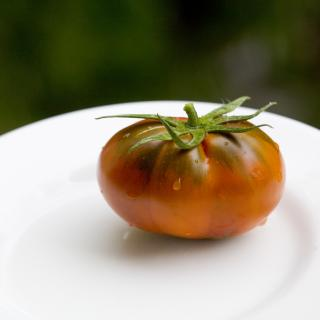tomato: (92, 100, 288, 242)
